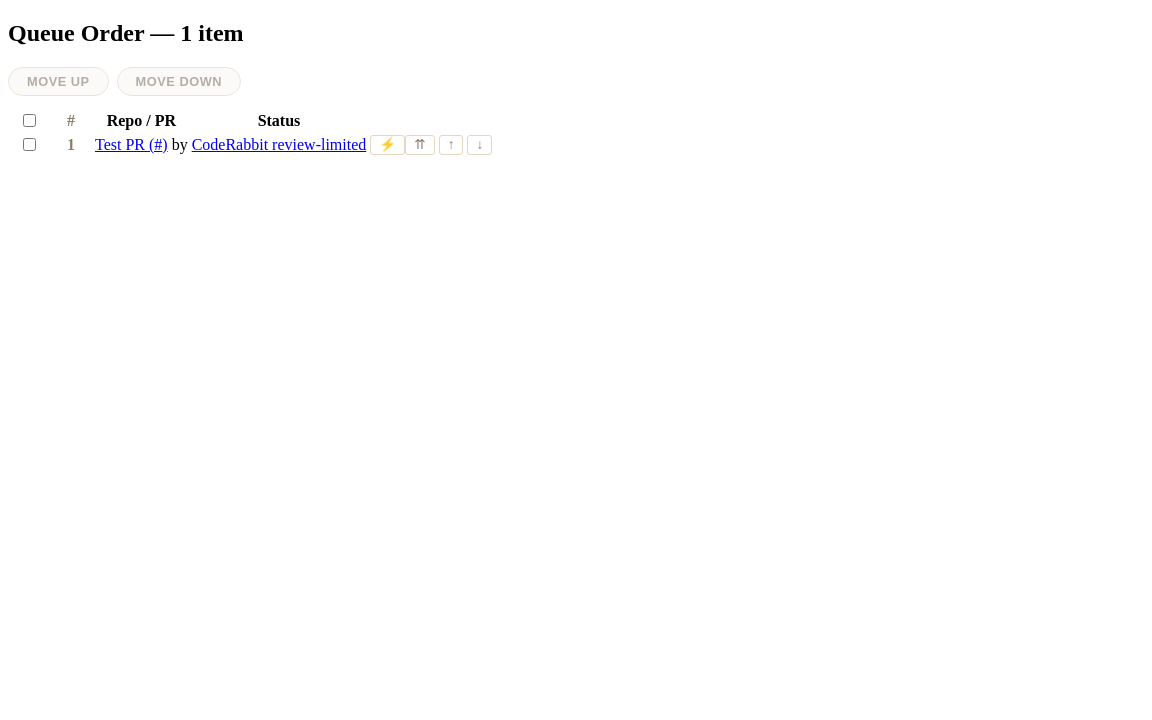
QueueOrder › retrigger now › shows confirmation dialog when retrigger is clicked while paused
Click the button named "Retrigger now" at (388, 145), box x1=370 y1=135 x2=405 y2=155
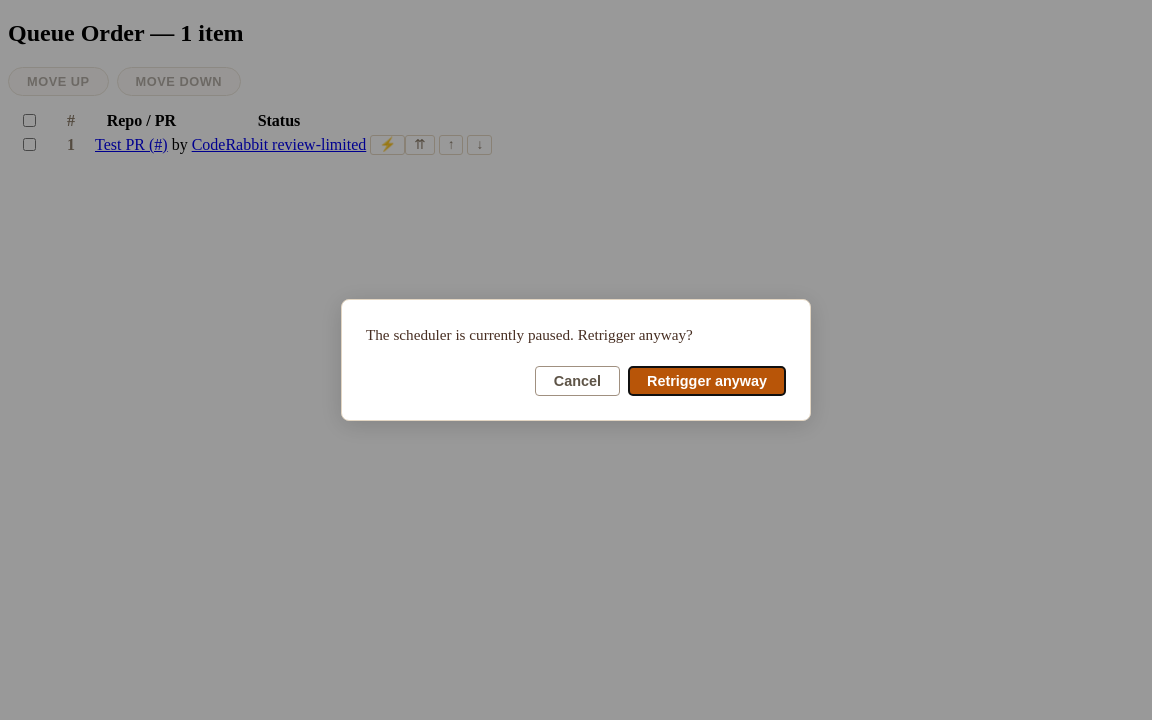
Expected: the text "The scheduler is currently paused. Retrigger anyway?" is shown, x1=366 y1=326 x2=693 y2=343
Expected: the button "Retrigger anyway" is shown, x1=628 y1=366 x2=786 y2=396
